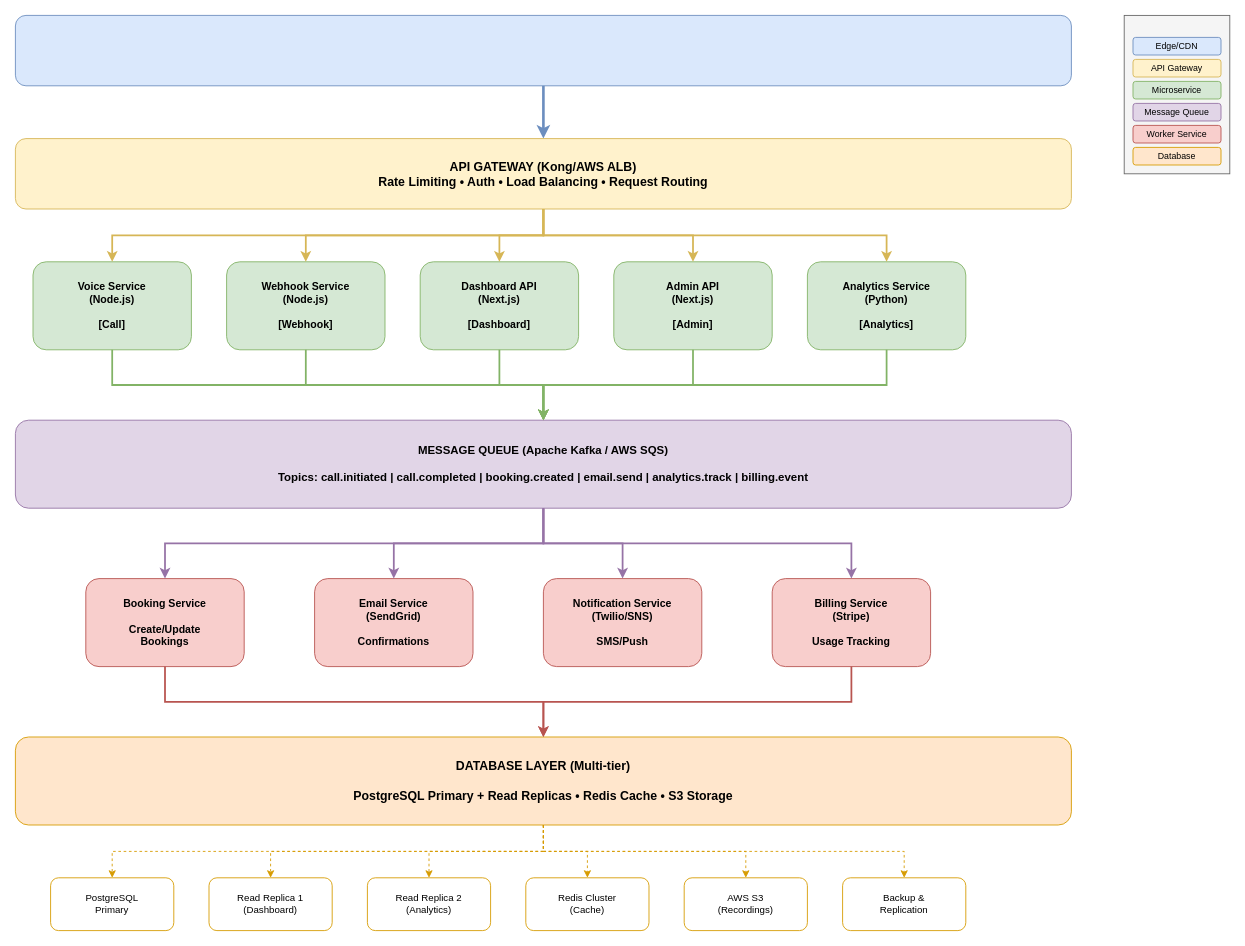
Some shapes in this 1245 by 946 pixel diagram are drawn without their labels. The box of each missing label's shape, as (x1, y1, x2, y2) in pixels:
EDGE LAYER (CloudFlare/AWS CloudFront) Global CDN • DDoS Protection • SSL: (15, 15, 1071, 86)
LEGEND: (1123, 15, 1230, 174)
